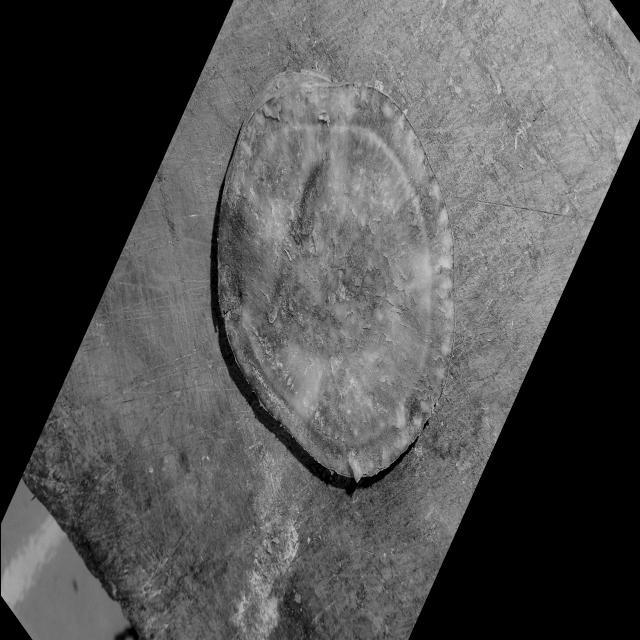Sick Sweet Potato_Tuber Rot: (216, 71, 454, 480)
